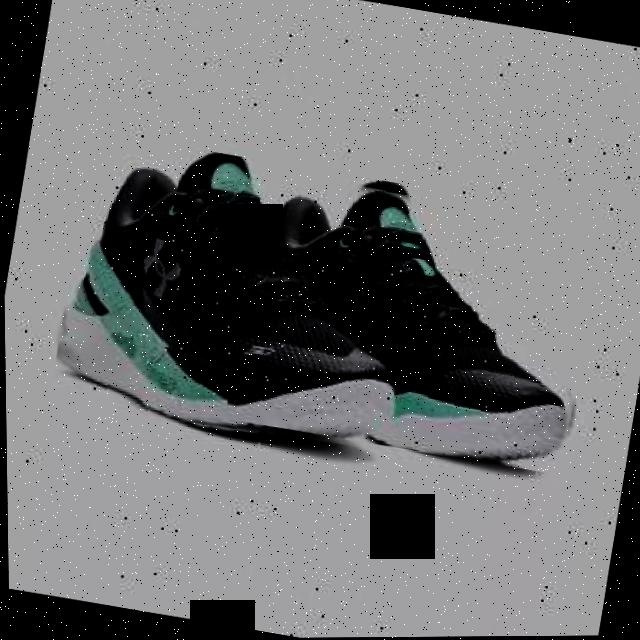shoe: (44, 129, 440, 463), (220, 164, 609, 479)
